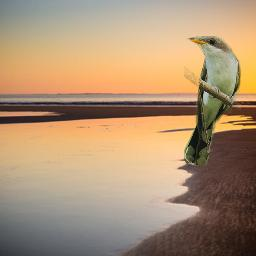Cuckoo: (184, 36, 241, 166)
